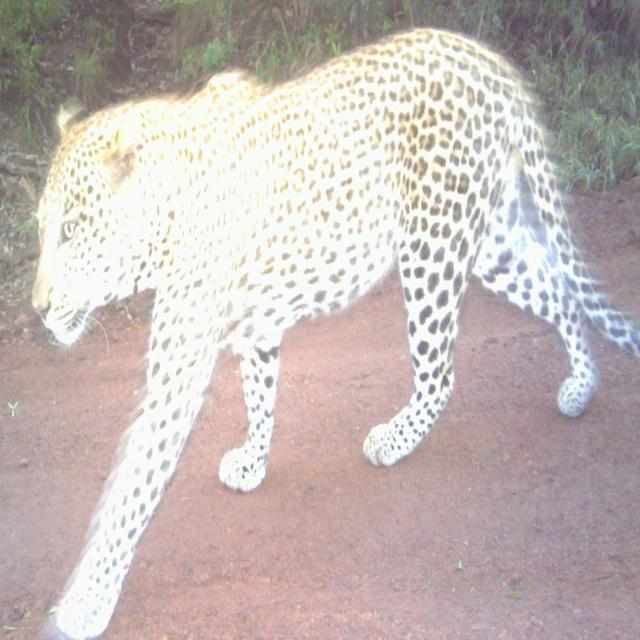Leopard: (50, 46, 640, 490)
